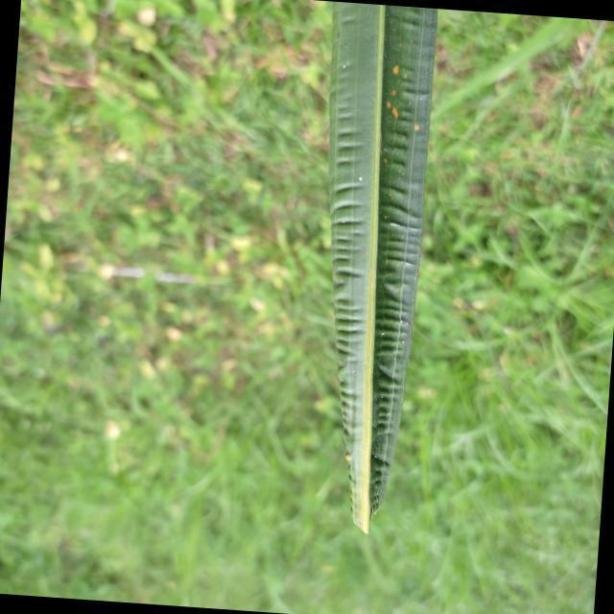Boron: (329, 2, 442, 540)
